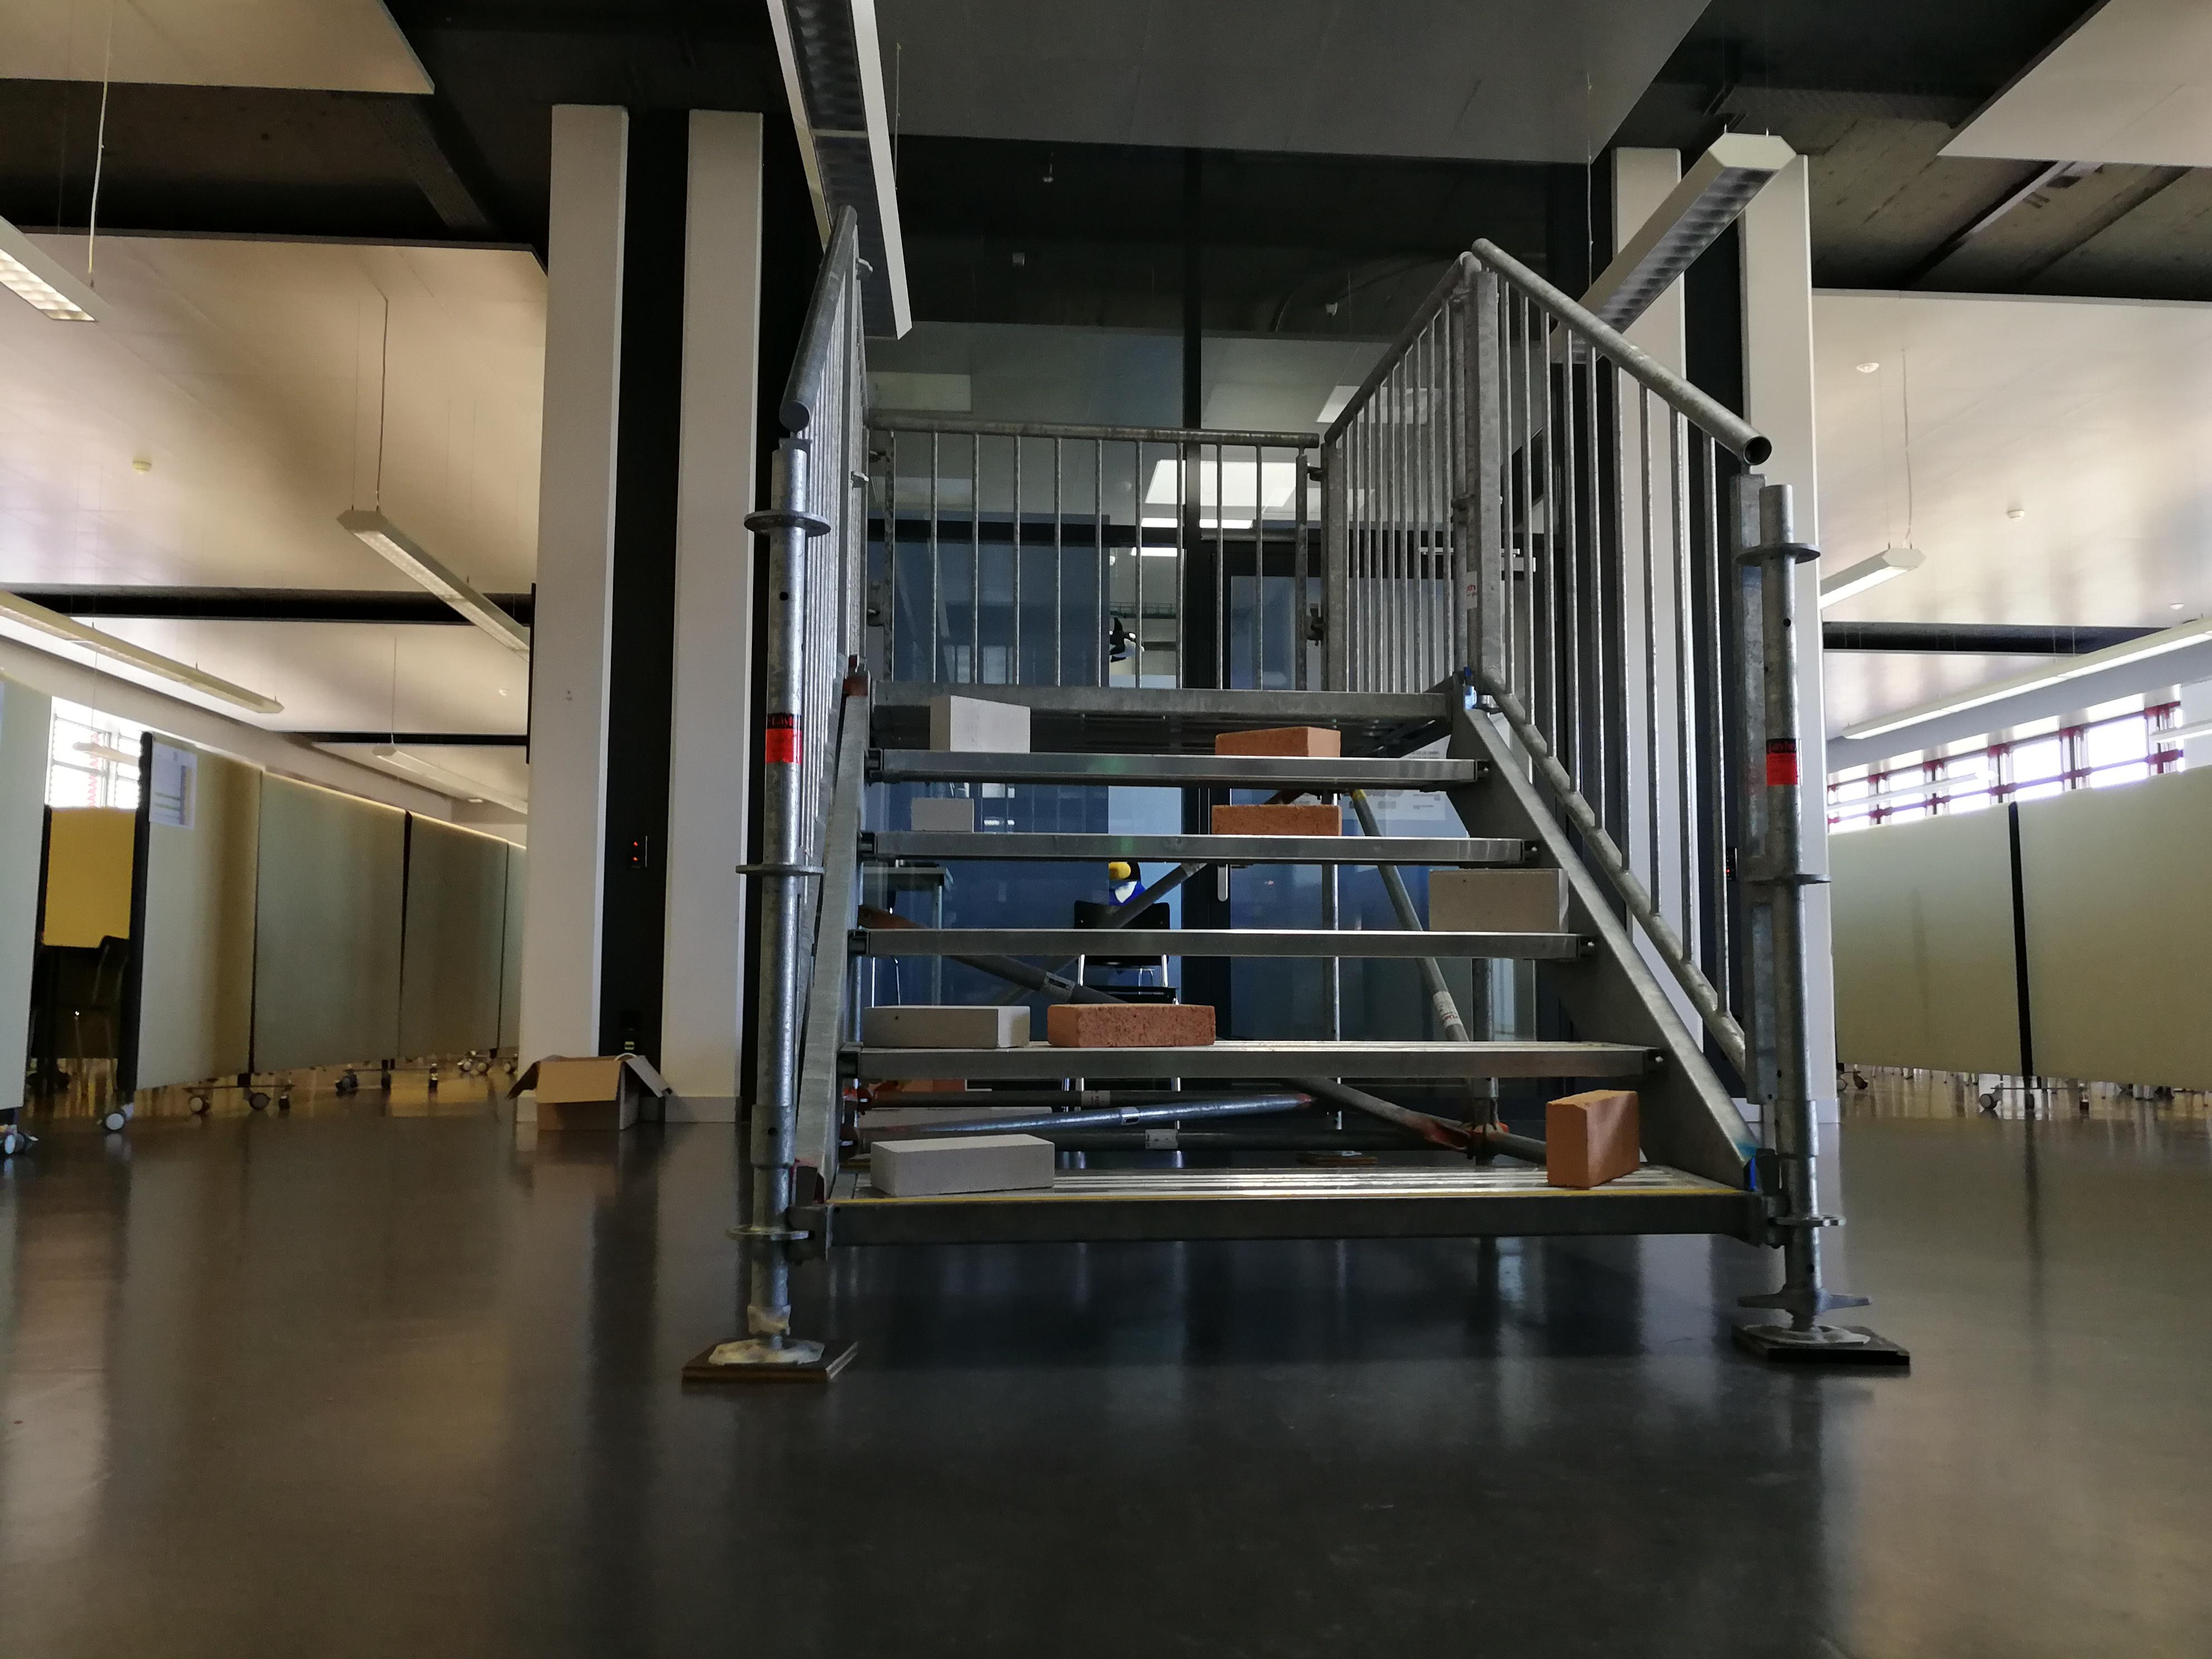brick: (874, 1131, 1054, 1199), (1426, 868, 1569, 934), (1545, 1091, 1639, 1188), (864, 1002, 1031, 1051), (1045, 999, 1214, 1046), (930, 699, 1028, 753), (1212, 803, 1339, 835), (1214, 723, 1338, 755), (913, 798, 972, 829)
edge: (824, 1192, 1757, 1243), (843, 1047, 1660, 1080), (859, 829, 1543, 864), (860, 748, 1498, 782), (852, 929, 1601, 957), (873, 681, 1461, 716)
stairs: (685, 202, 1909, 1394)
steps: (817, 664, 1770, 1260)
